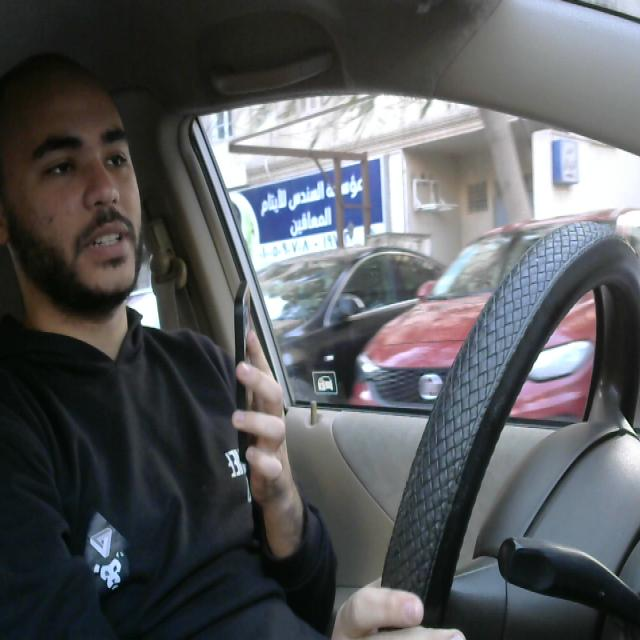mobile use: (224, 272, 266, 470)
